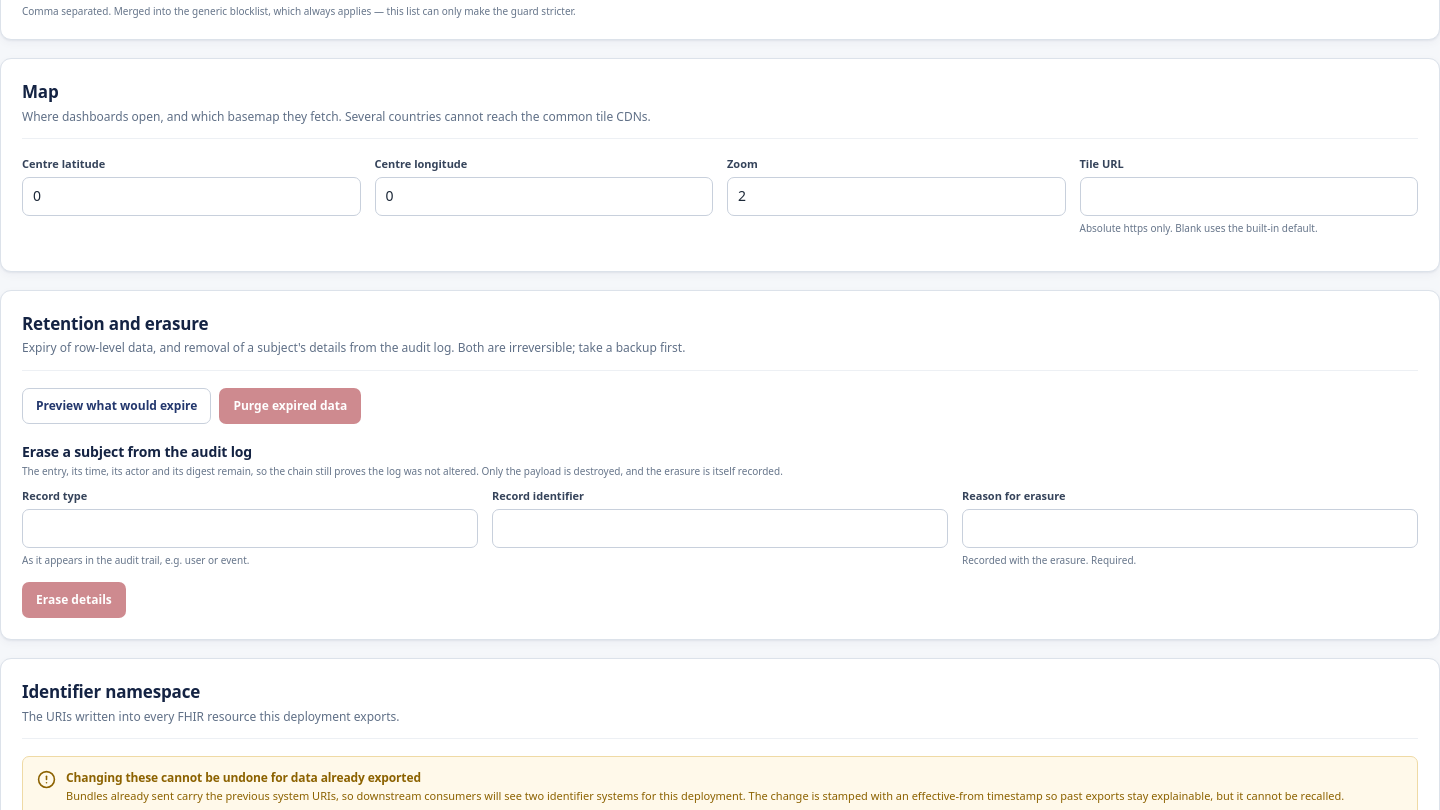
Test: DeploymentPage › DeploymentPage privacy operations › reports a refused purge instead of implying it succeeded
(page scrolled)
Click the button "Preview what would expire" at {"x": 117, "y": 406}, box [22, 388, 211, 424]
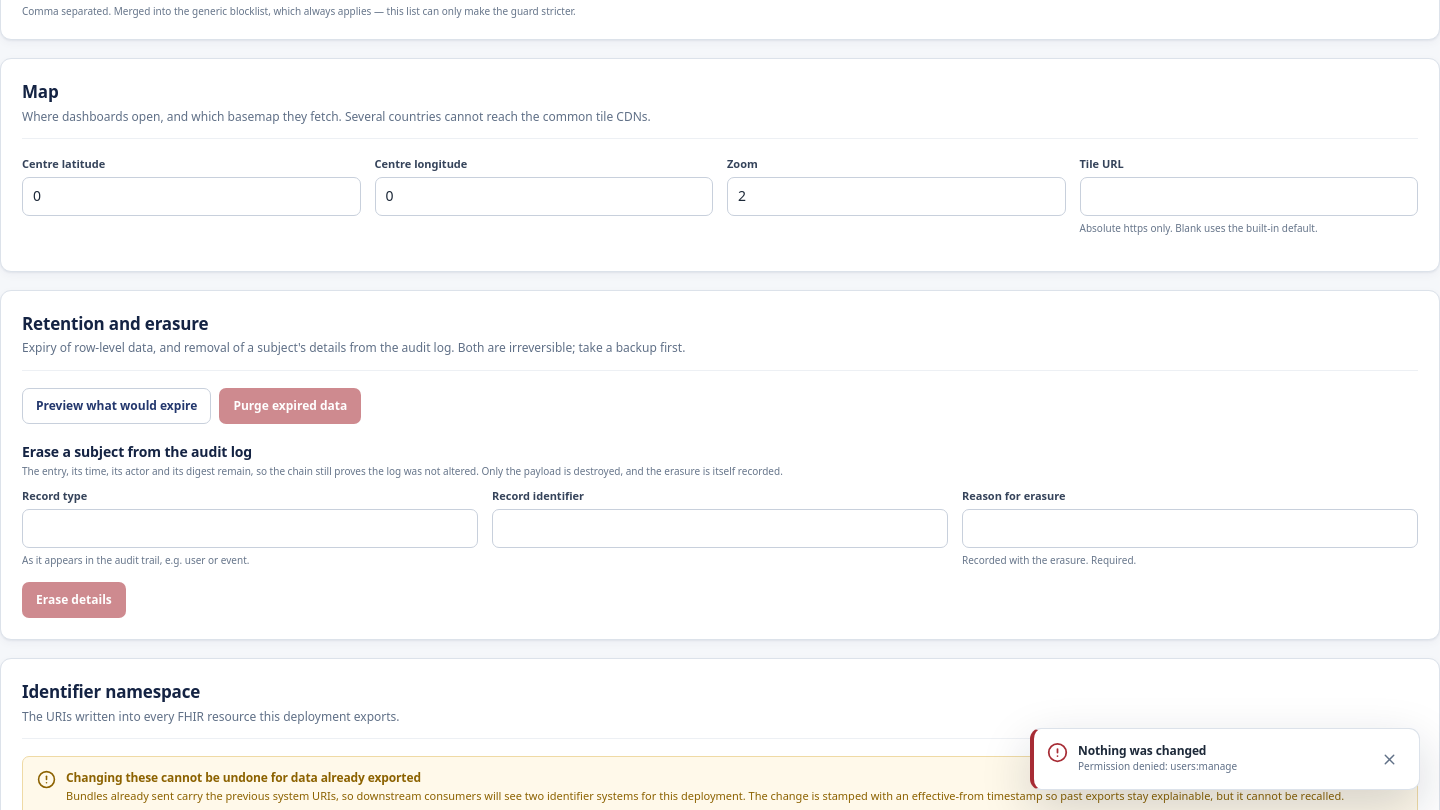
Result: the text "Permission denied: users:manage" is shown at [1078, 759, 1237, 773]
